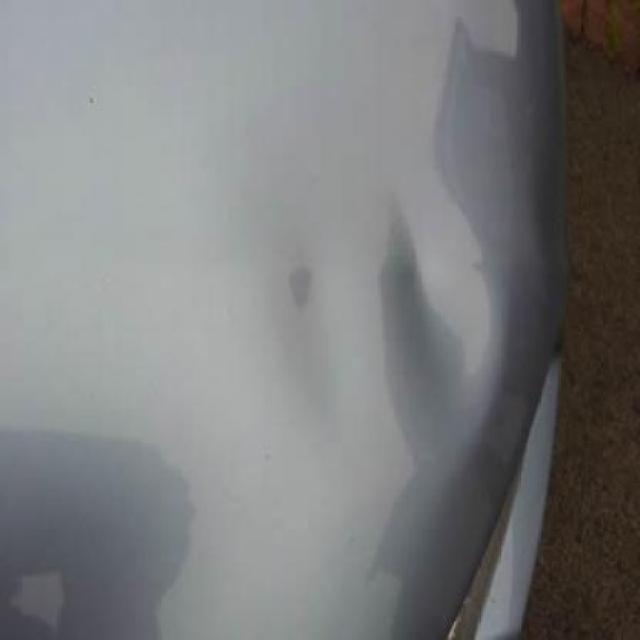dent: (376, 206, 500, 448)
